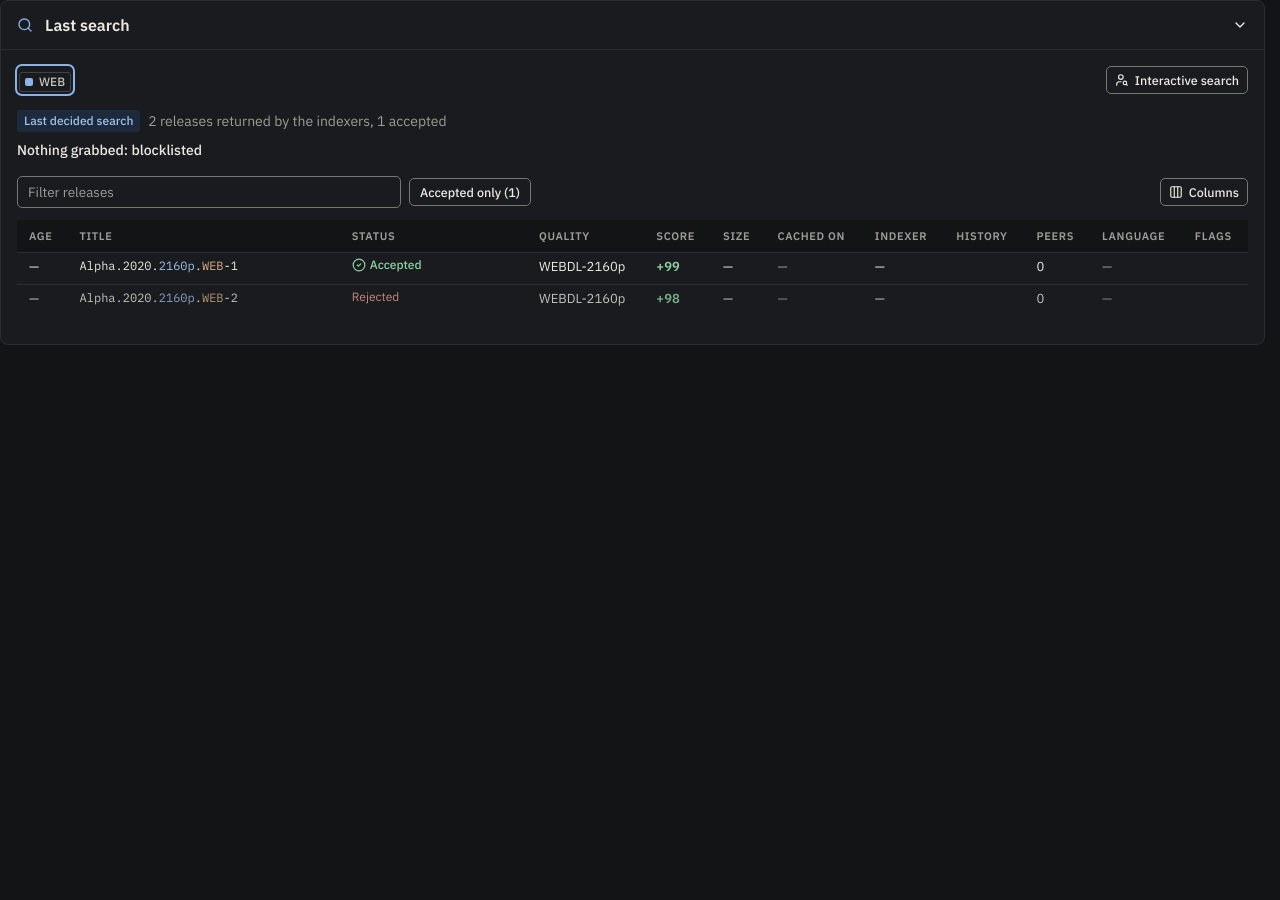
Test: a stored list has no Grab buttons and offers Interactive search
Check: the table with test id "releases-table" is shown, box [17,220,1248,316]
Click the button with test id "interactive-search-open". click: (1177, 80)
box: [1106,66,1248,94]
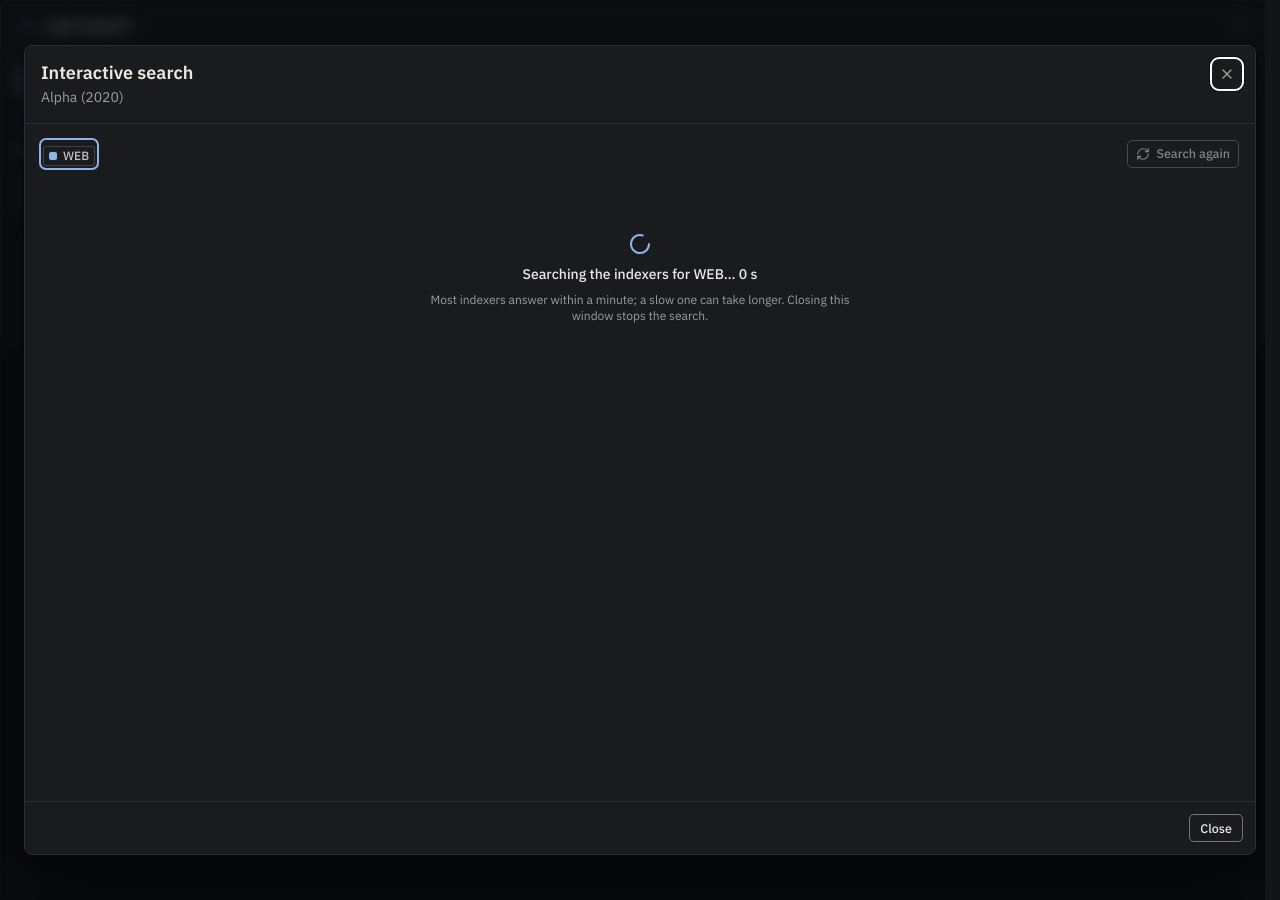
Check: the message with test id "interactive-waiting" is shown, box [430,232,850,322]
